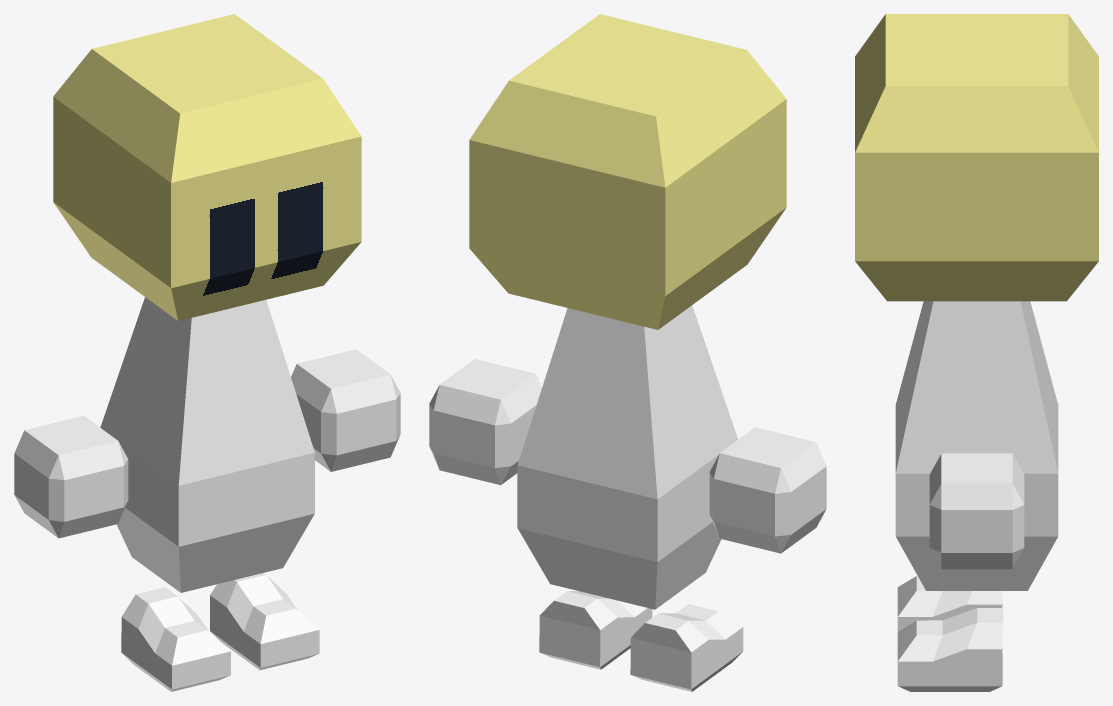
Rendered from player character.gltf.
3 renders of one model, left to right at view 1: azimuth 30°, elevation 25°; view 2: azimuth 150°, elevation 25°; view 3: azimuth 270°, elevation 25°, orthographic. The views are drawn at different scales.
Visible parts, largest first — view 1: Head, Body, Hand (×2), Shoe (×2); view 2: Head, Body, Hand (×2), Shoe (×2); view 3: Head, Body, Shoe (×2), Hand.
Boxes of the visible parts, x1=… form: Head: x1=53, y1=14, x2=361, y2=320; Body: x1=100, y1=297, x2=314, y2=592; Hand (×2): x1=14, y1=349, x2=400, y2=538; Shoe (×2): x1=121, y1=573, x2=319, y2=691; Head: x1=469, y1=14, x2=786, y2=329; Body: x1=517, y1=305, x2=737, y2=609; Hand (×2): x1=429, y1=359, x2=826, y2=553; Shoe (×2): x1=539, y1=591, x2=743, y2=691; Head: x1=855, y1=14, x2=1098, y2=301; Body: x1=895, y1=301, x2=1058, y2=590; Shoe (×2): x1=897, y1=576, x2=1003, y2=691; Hand: x1=929, y1=453, x2=1024, y2=569.
Size of the model in its own units: 0.9688 by 1.55 by 0.5625.
3 materials, 1 textured.
